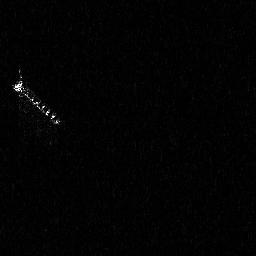ship: (9, 70, 63, 125)
